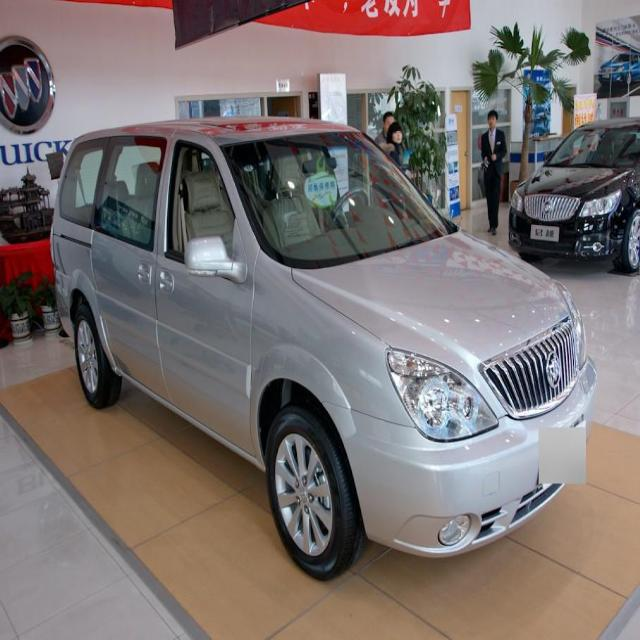door: (88, 142, 171, 381)
front_bumper: (322, 354, 596, 560)
front_glass: (220, 129, 448, 268)
front_right_side_door: (154, 127, 256, 465)
front_right_side_light: (383, 343, 500, 448)
front_right_side_mirror: (183, 232, 238, 282)
wheel: (268, 406, 354, 579), (74, 307, 120, 409)
